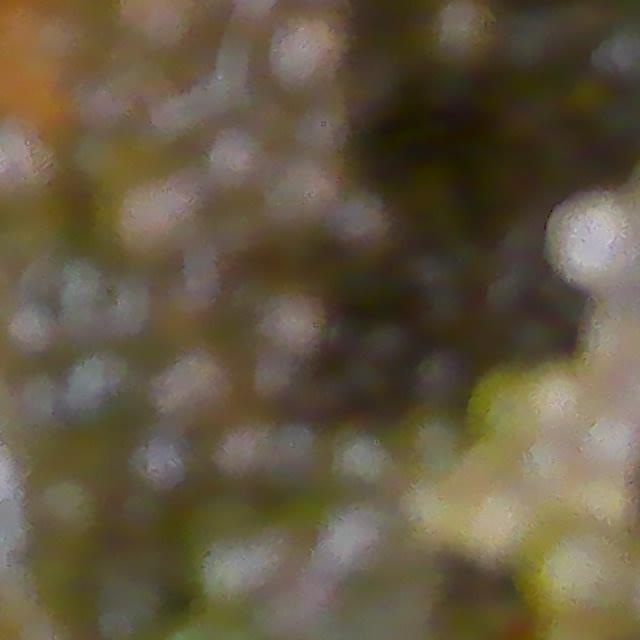SeaGrape: (542, 188, 640, 298), (115, 181, 208, 267), (262, 16, 357, 100), (264, 153, 352, 240), (427, 0, 515, 81), (149, 350, 245, 420), (197, 124, 278, 204), (114, 0, 200, 56), (269, 299, 331, 369)
